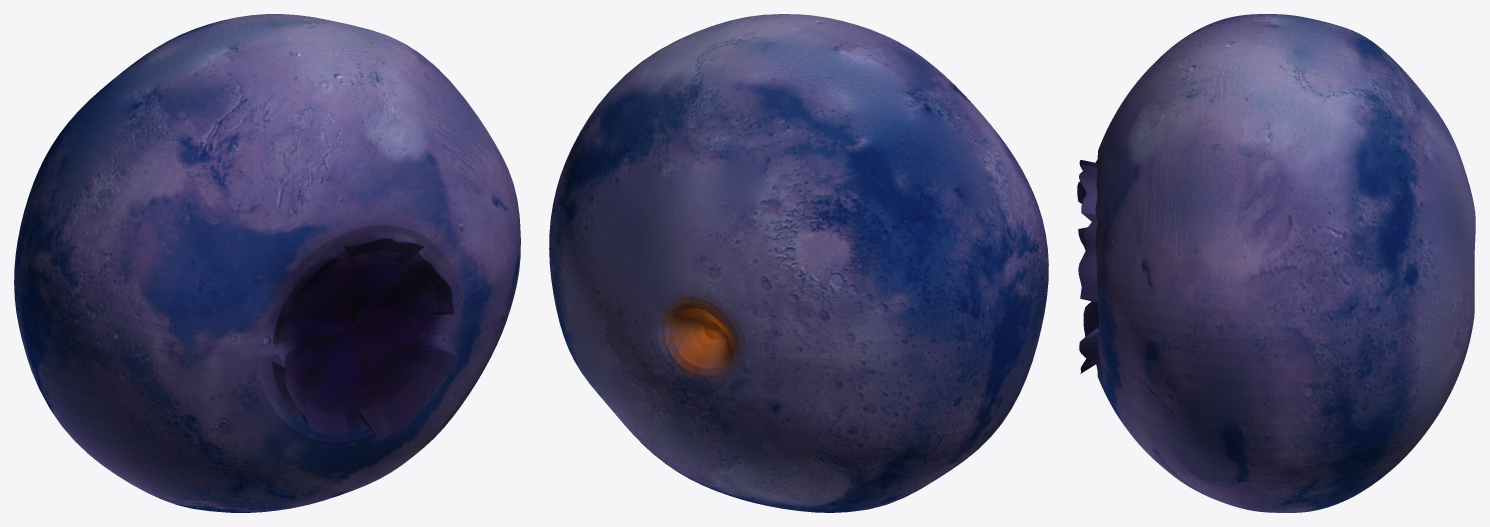
3 views of the same model, side by side, from view 1: azimuth 30°, elevation 25°; view 2: azimuth 150°, elevation 25°; view 3: azimuth 270°, elevation 25° (orthographic). The views are drawn at different scales.
Parts seen in each view (by area): view 1: world; view 2: world; view 3: world.
Part boxes in pixels (<box>): world: <box>14,14,520,512</box>; world: <box>549,14,1048,512</box>; world: <box>1077,14,1475,512</box>.
Bounding box in the file's own units: 0.0151 × 0.0146 × 0.0119.
1 material, 1 textured.
